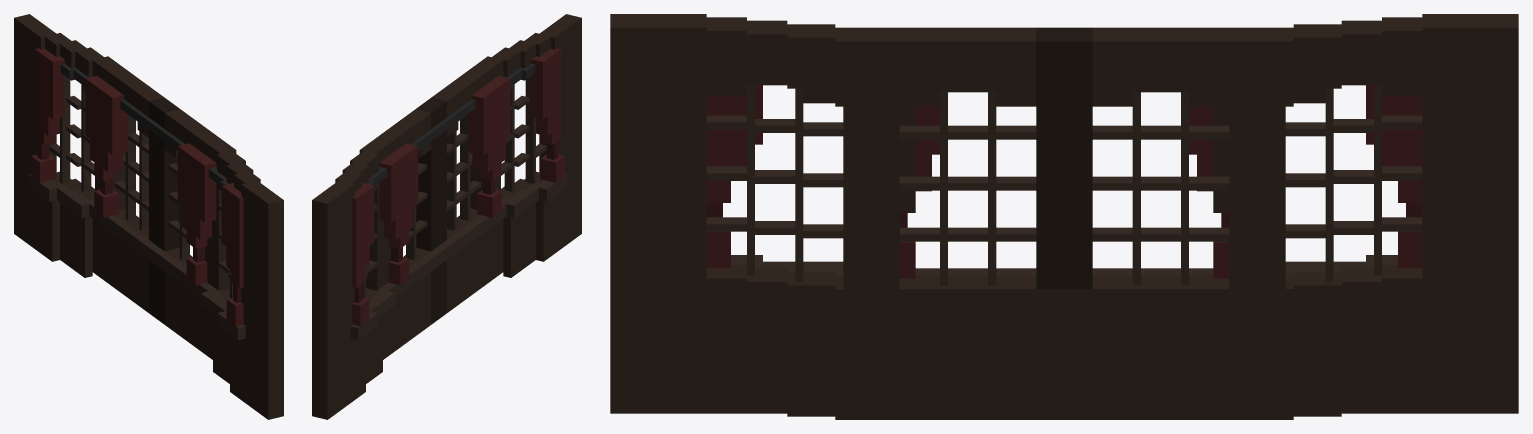
File: Front_Wall.fbx
The picture shows the model from 3 angles, left to right: view 1: azimuth 30°, elevation 25°; view 2: azimuth 150°, elevation 25°; view 3: azimuth 270°, elevation 25°; orthographic projection. The views are drawn at different scales.
Parts seen in each view (by area): view 1: Front_Wall.Merged; view 2: Front_Wall.Merged; view 3: Front_Wall.Merged.
Part boxes in pixels (<box>): Front_Wall.Merged: <box>14,14,283,419</box>; Front_Wall.Merged: <box>312,14,581,419</box>; Front_Wall.Merged: <box>610,14,1518,419</box>.
Size of the model in its own units: 0.67 by 3.55 by 7.57.
